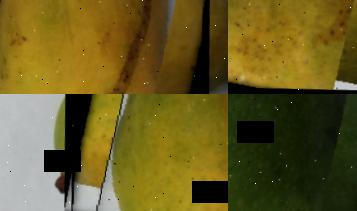PartiallyRipe: (61, 94, 228, 211), (228, 0, 357, 94)
Ripe: (0, 0, 209, 94)
Unripe: (228, 94, 357, 211)
